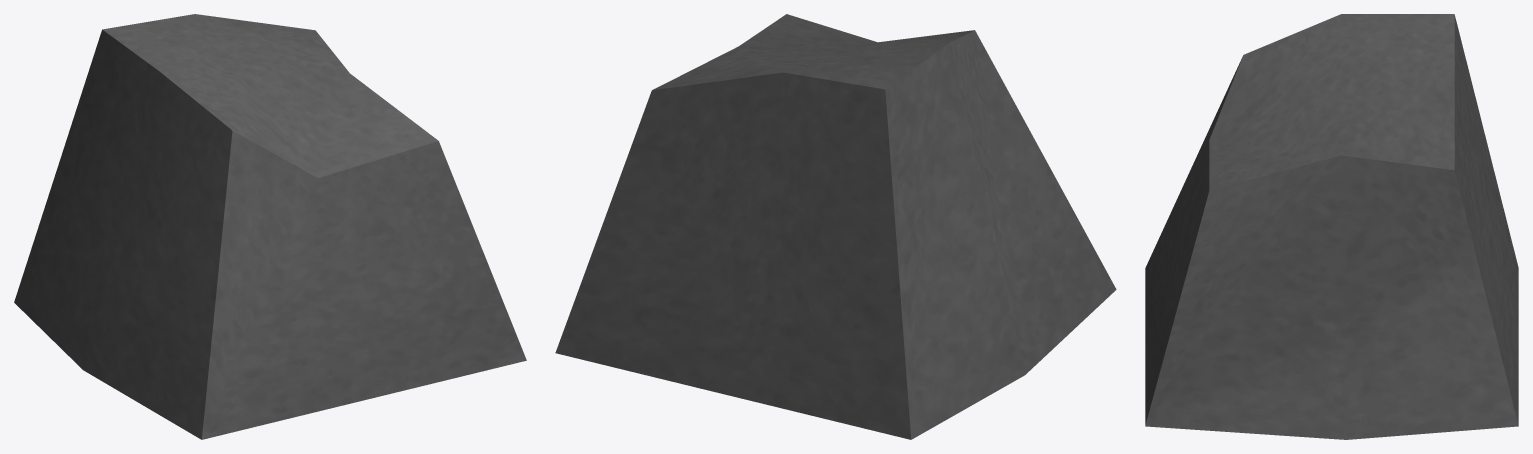
Rendered from Rock_2_Hanin.fbx.
3 renders of one model, left to right at view 1: azimuth 30°, elevation 25°; view 2: azimuth 150°, elevation 25°; view 3: azimuth 270°, elevation 25°, orthographic. The views are drawn at different scales.
Parts seen in each view (by area): view 1: pCube8; view 2: pCube8; view 3: pCube8.
Part boxes in pixels (x1=…): pCube8: x1=14, y1=14, x2=526, y2=439; pCube8: x1=555, y1=14, x2=1116, y2=439; pCube8: x1=1145, y1=14, x2=1518, y2=439.
Bounding box in the file's own units: 1.42 × 1.04 × 1.25.
